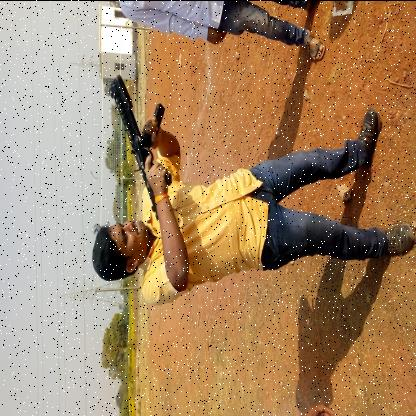rifle: (107, 73, 173, 222)
